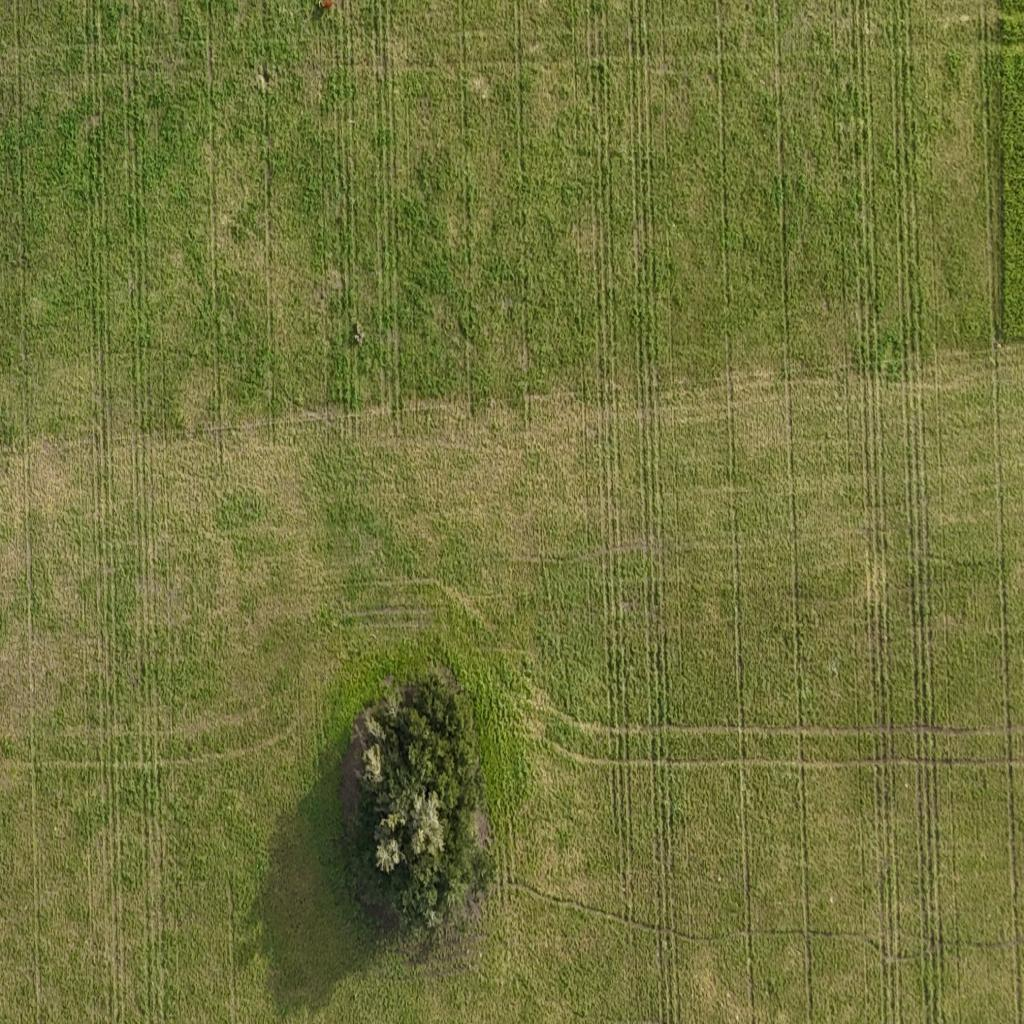cow: (317, 1, 337, 20)
